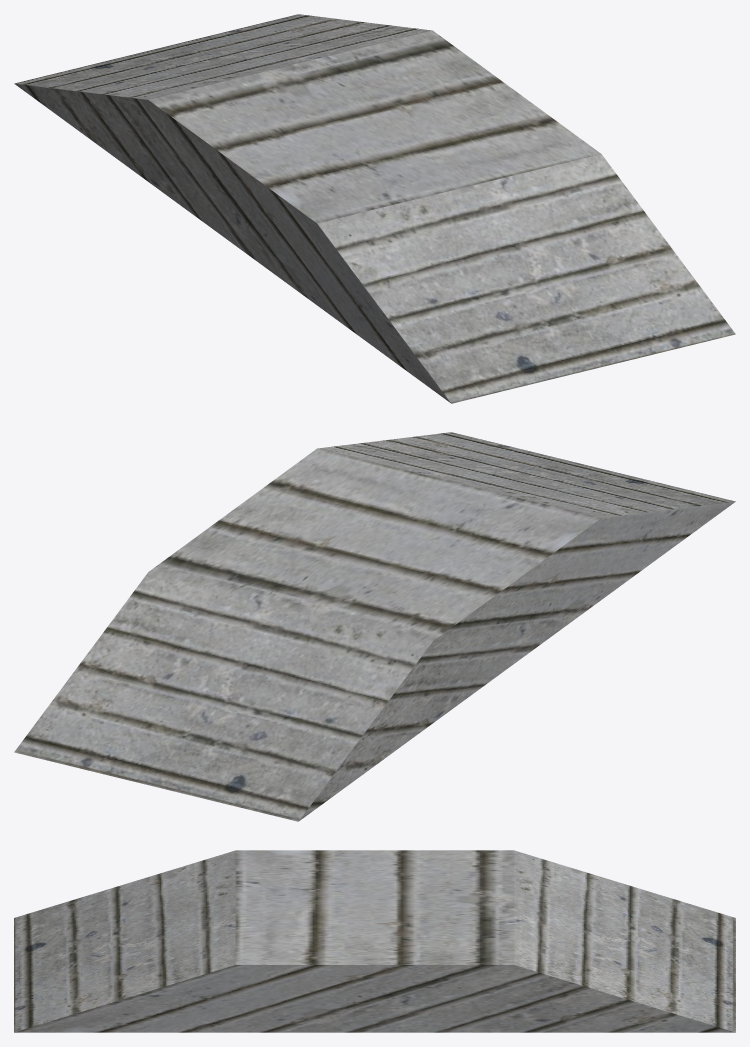
The model's file is new_hill.dae.
The picture shows the model from 3 angles, top to bottom: view 1: azimuth 30°, elevation 25°; view 2: azimuth 150°, elevation 25°; view 3: azimuth 270°, elevation 25°; orthographic projection. The views are drawn at different scales.
Visible parts, largest first — view 1: Cube; view 2: Cube; view 3: Cube.
Part boxes in pixels (x1=…): Cube: x1=14, y1=14, x2=735, y2=403; Cube: x1=14, y1=432, x2=735, y2=821; Cube: x1=14, y1=850, x2=735, y2=1032.
Bounding box in the file's own units: 1.2 × 3.2 × 0.3304.
Materials: 1 (1 with a texture image).
